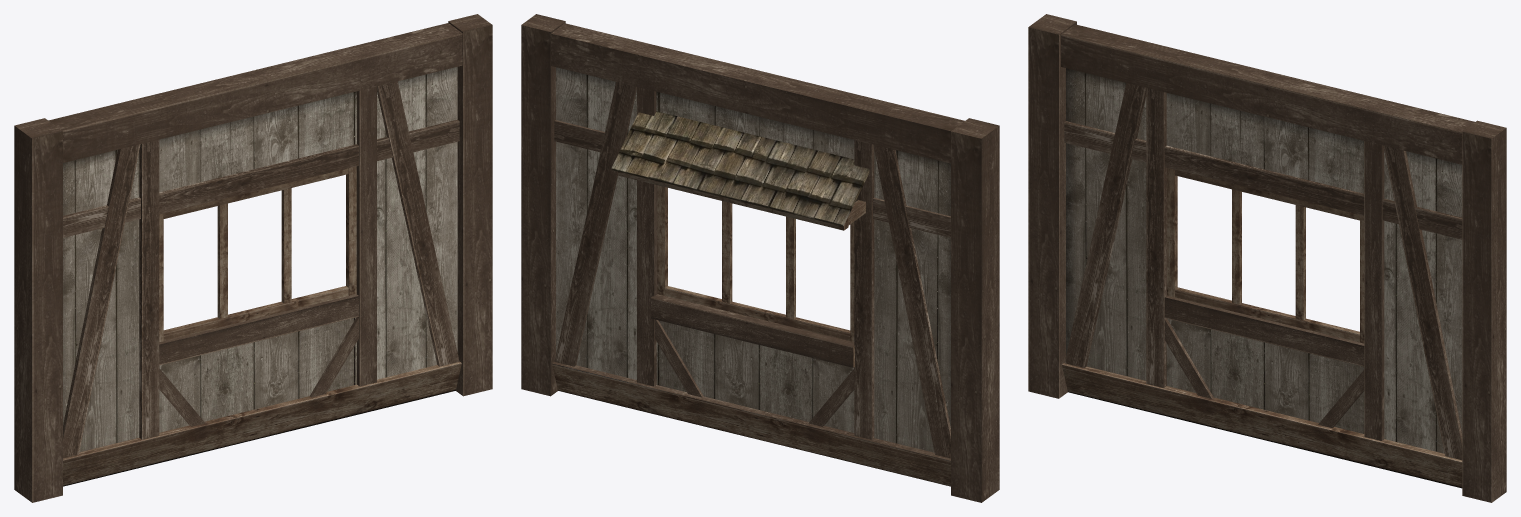
The model's file is Wooden_WideWindow.dae.
The picture shows the model from 3 angles, left to right: view 1: azimuth 30°, elevation 25°; view 2: azimuth 150°, elevation 25°; view 3: azimuth 330°, elevation 25°; orthographic projection.
Parts seen in each view (by area): view 1: woodenWideWindow; view 2: woodenWideWindow, Roof; view 3: woodenWideWindow.
Boxes of the visible parts, <box> form: woodenWideWindow: <box>14,14,492,502</box>; woodenWideWindow: <box>521,14,999,502</box>; Roof: <box>611,111,869,226</box>; woodenWideWindow: <box>1028,14,1506,502</box>.
Size of the model in its own units: 4 by 3.01 by 0.6144.
Materials: 2 (2 with a texture image).
